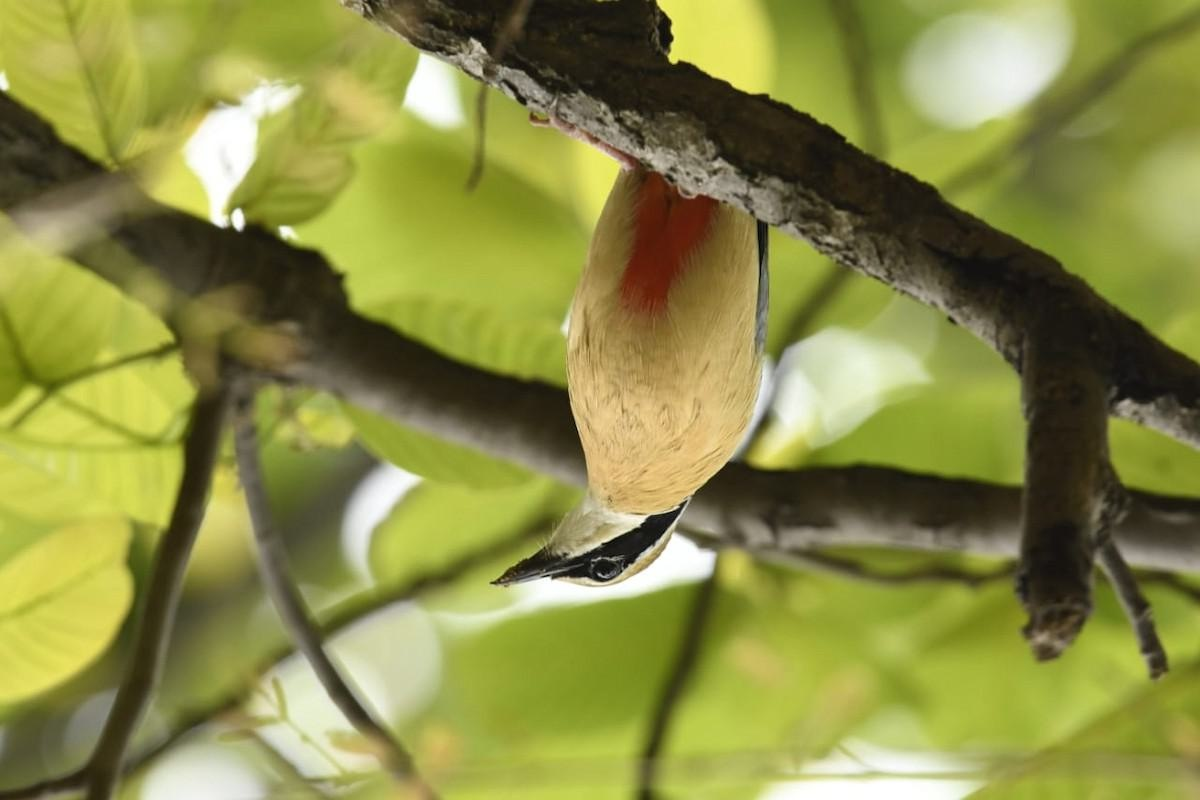pitta: (447, 138, 786, 646)
